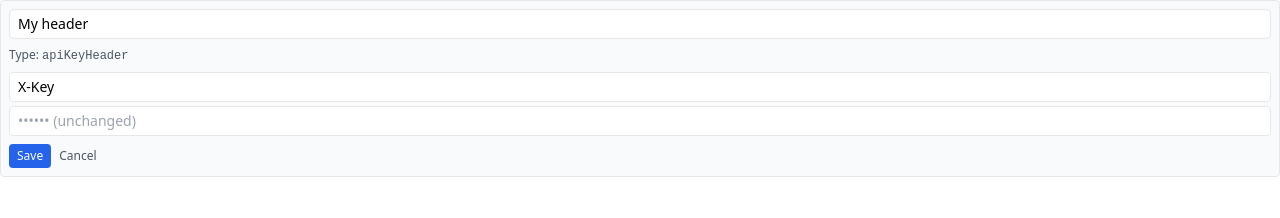
Test: CredentialForm › edit mode refuses to clear a required text field
Clear the field named "Header Name" at x=640, y=87, box [9,72,1271,102]
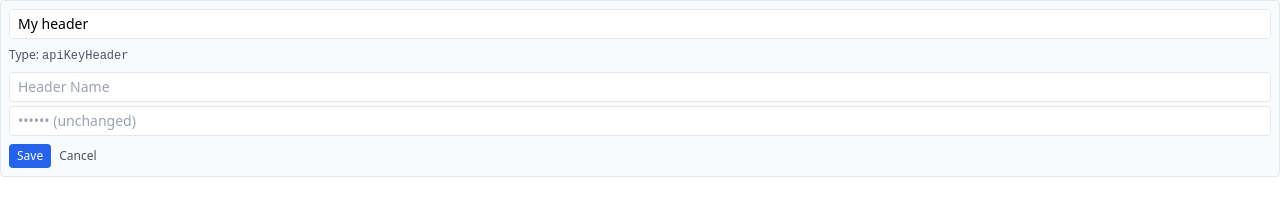
Click the button "Save".
click(30, 156)  # box [9,144,51,168]
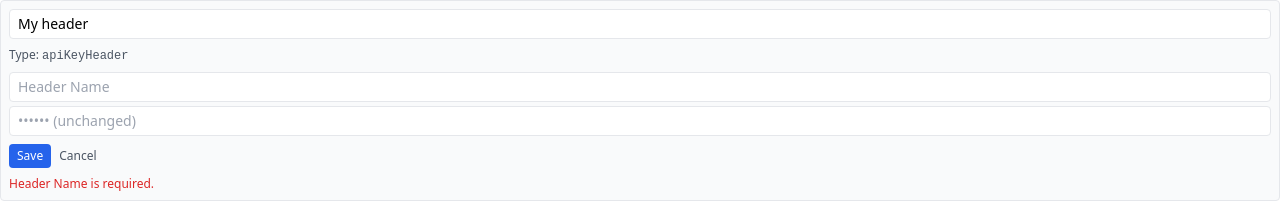
Check: the text "Header Name is required." is shown, box [9,175,154,192]
